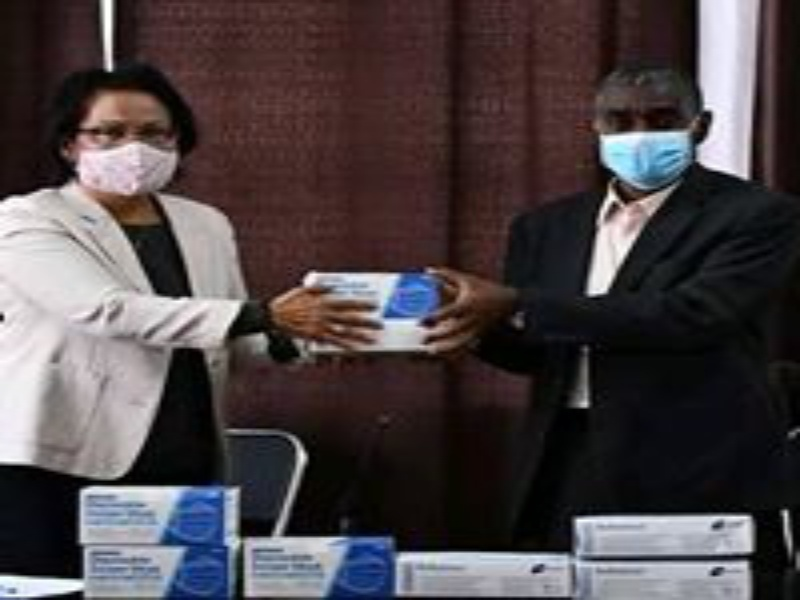ManaoArotava: (56, 66, 195, 211), (587, 64, 709, 191)
